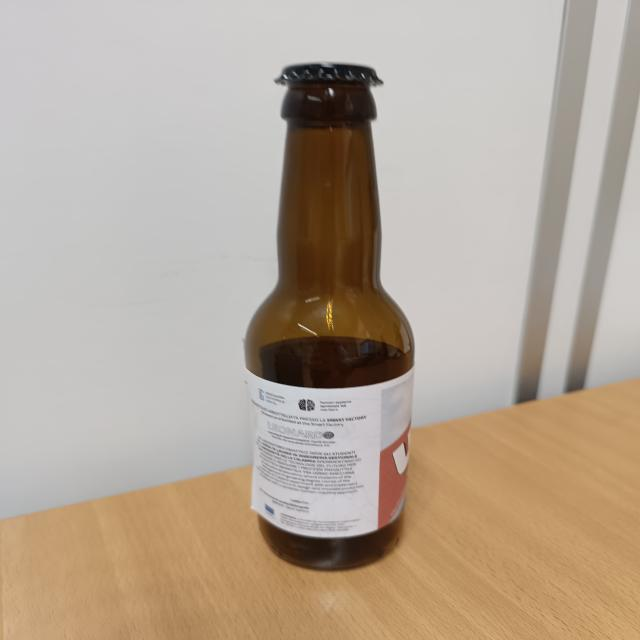Bottle: (242, 61, 414, 570)
Cap: (271, 62, 386, 88)
Label: (242, 374, 407, 534)
